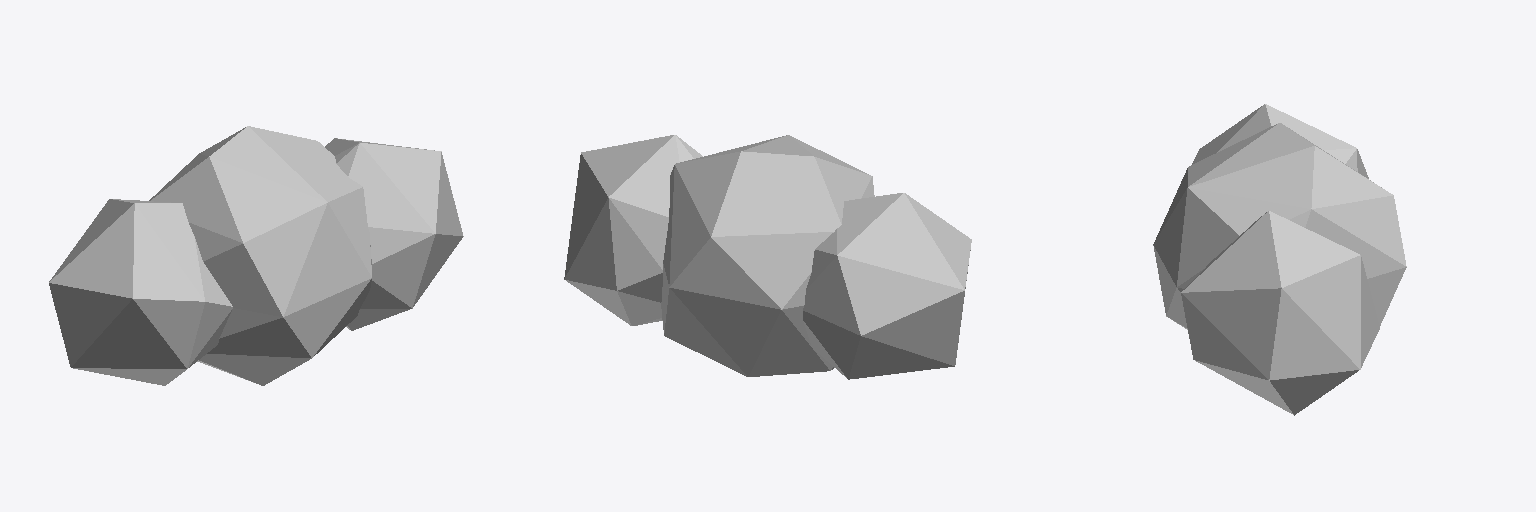
Rendered from cloud1.obj.
3 renders of one model, left to right at view 1: azimuth 30°, elevation 25°; view 2: azimuth 150°, elevation 25°; view 3: azimuth 270°, elevation 25°, orthographic.
Parts seen in each view (by area): view 1: Cloud_1_Icosphere.044; view 2: Cloud_1_Icosphere.044; view 3: Cloud_1_Icosphere.044.
Boxes of the visible parts, box(x1,y1,x2,y2) form: Cloud_1_Icosphere.044: box(49, 126, 463, 385); Cloud_1_Icosphere.044: box(564, 135, 971, 379); Cloud_1_Icosphere.044: box(1153, 104, 1406, 415).
Bounding box in the file's own units: 3.66 × 1.99 × 1.99.